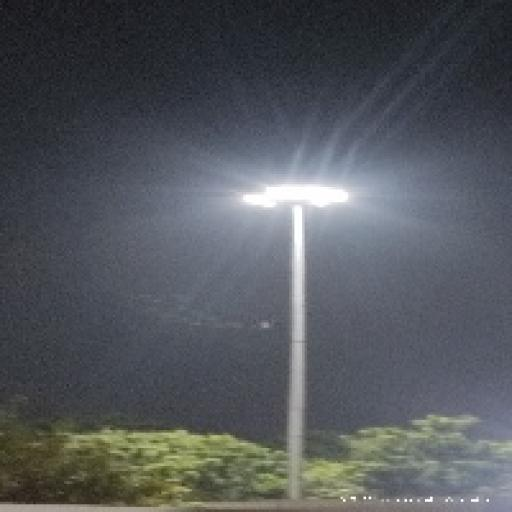Working: (308, 184, 354, 214), (234, 188, 276, 214)
